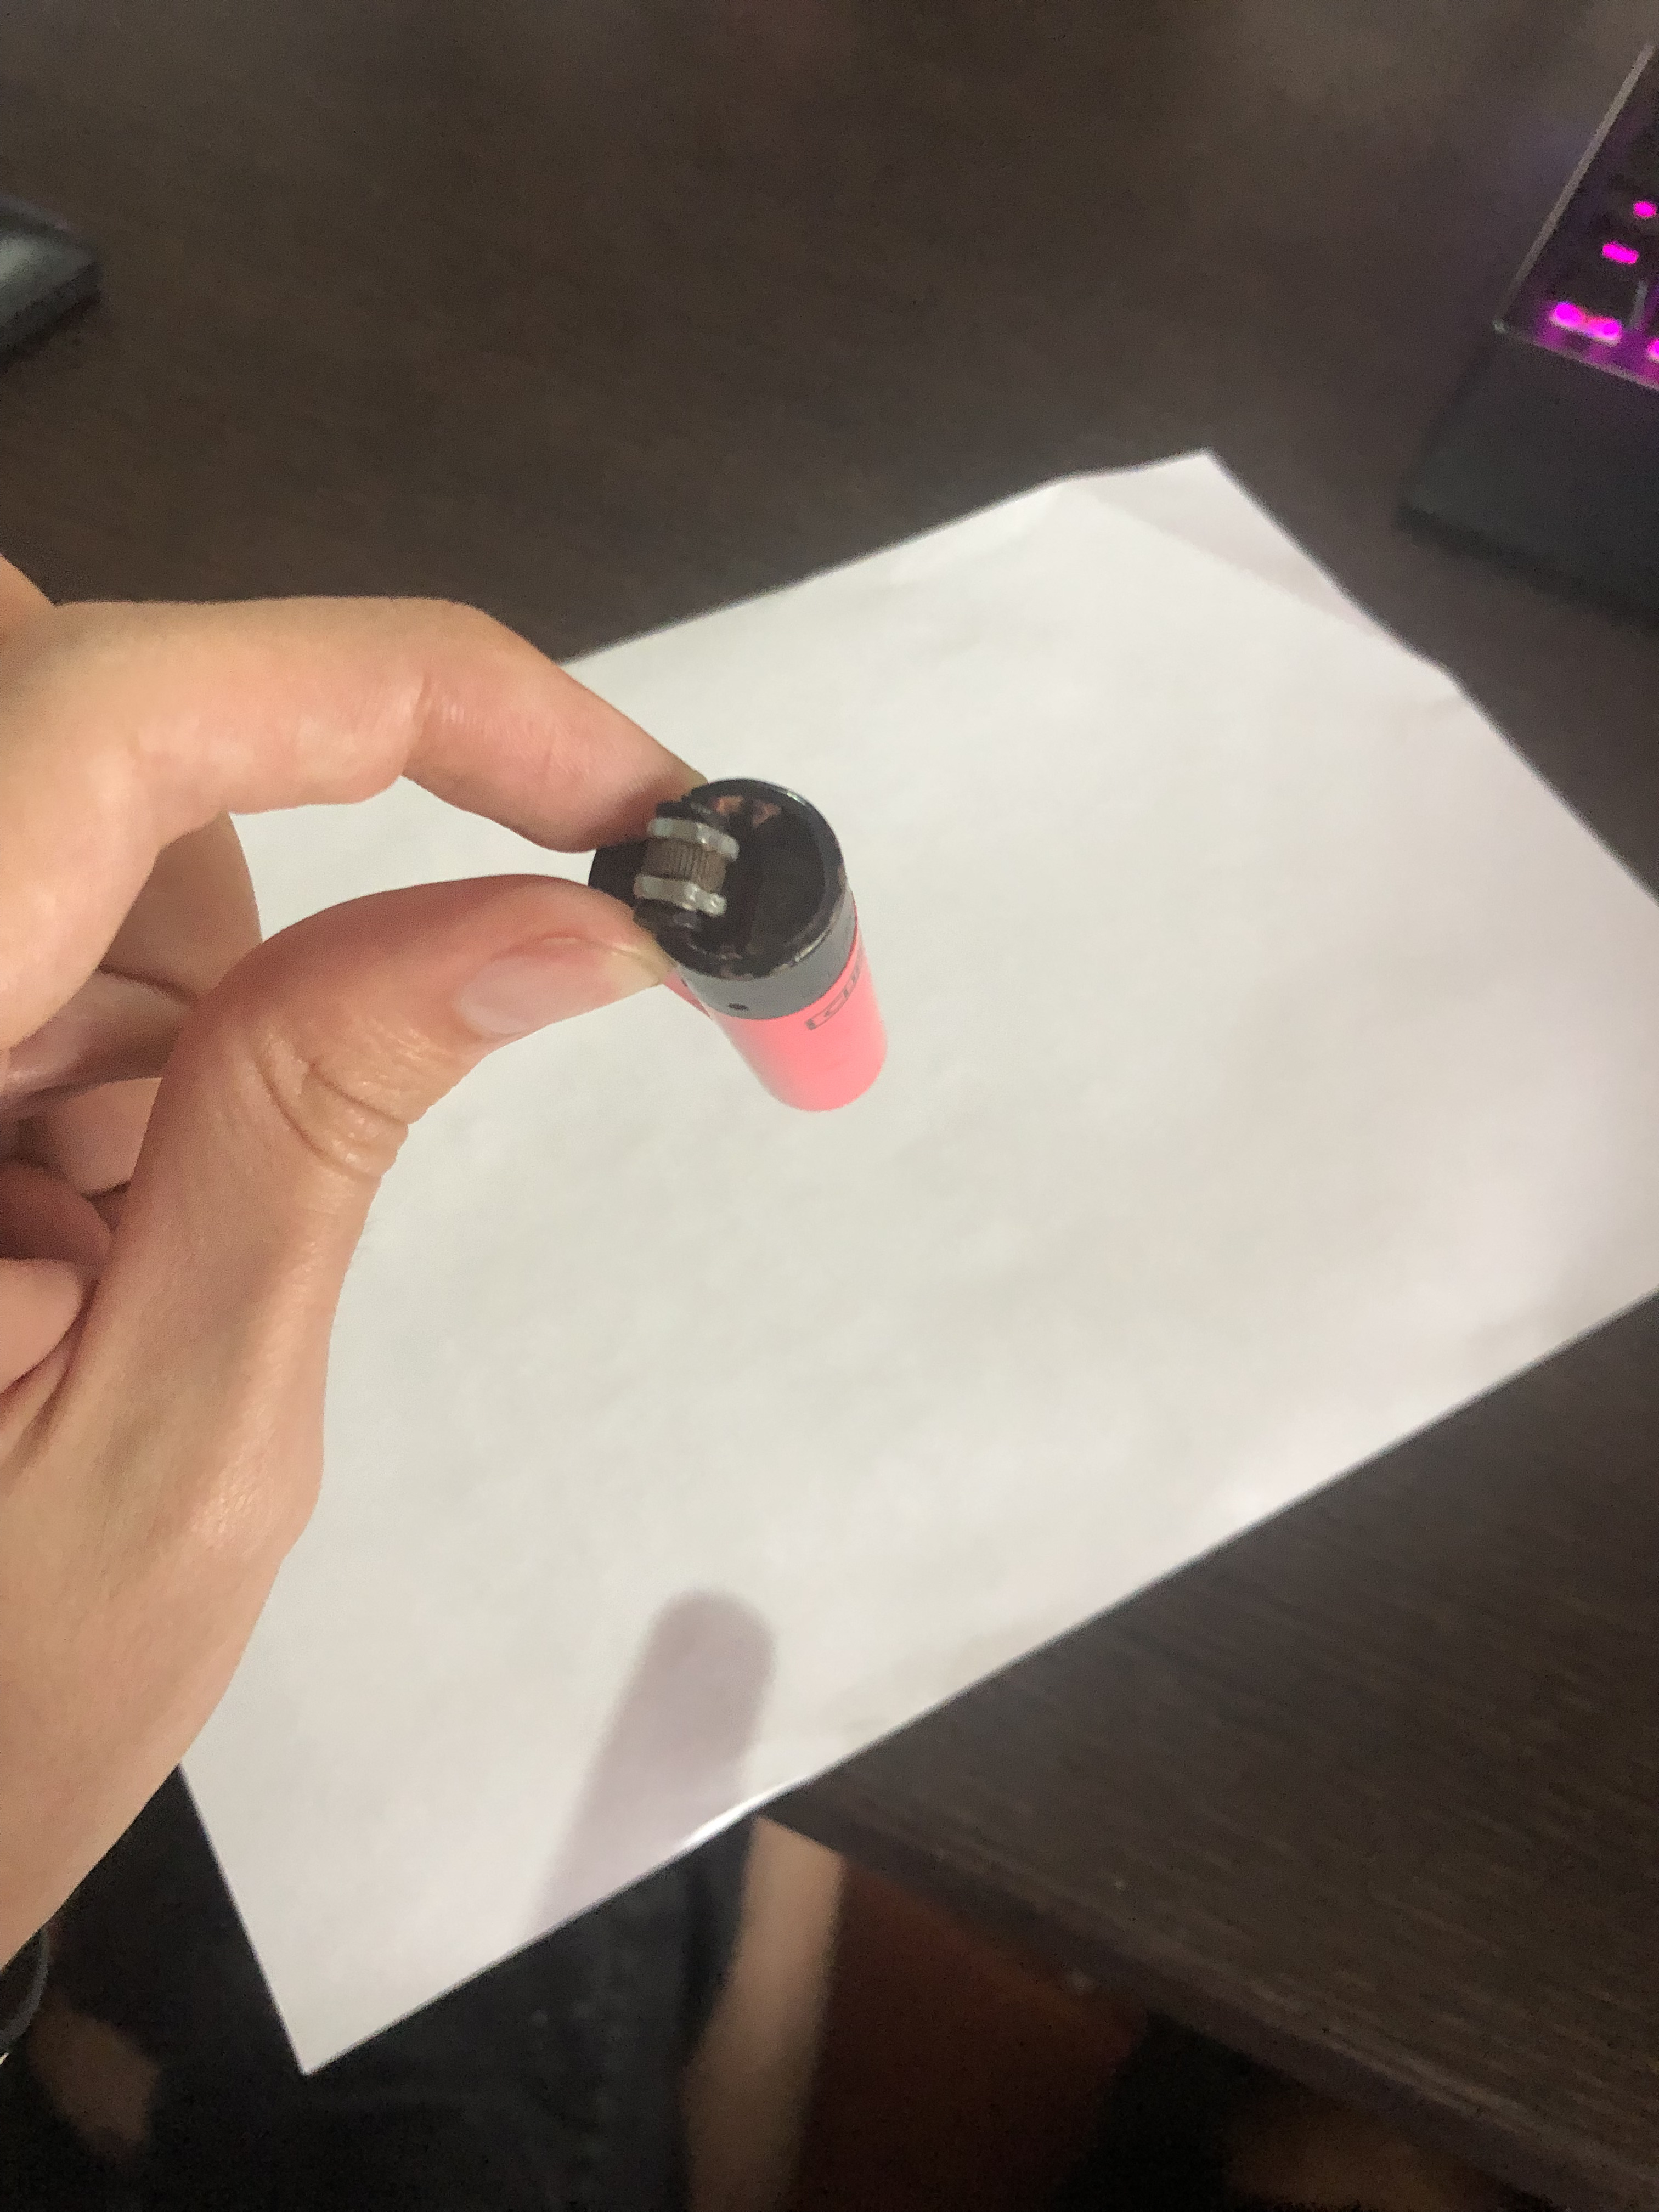Mechero: (575, 730, 892, 1130)
